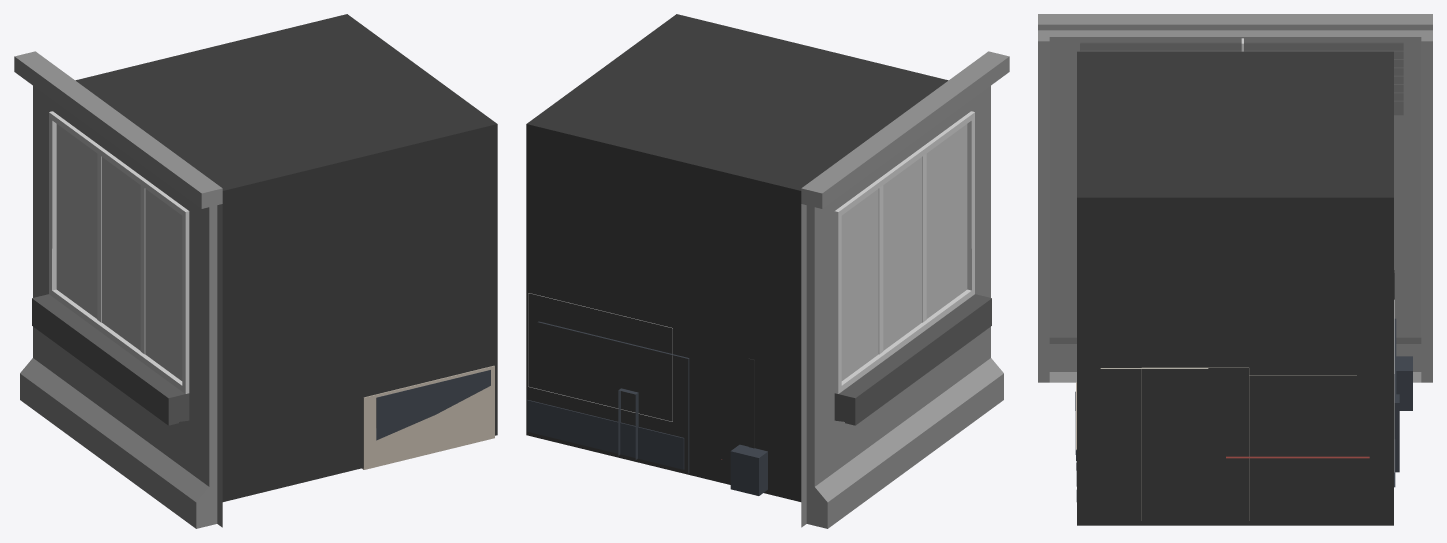
Rendered from Wall_10_Fake_Interior.FBX.
3 views of the same model, side by side, from view 1: azimuth 30°, elevation 25°; view 2: azimuth 150°, elevation 25°; view 3: azimuth 270°, elevation 25° (orthographic). The views are drawn at different scales.
Parts seen in each view (by area): view 1: Wall_10_Fake_Interior_LOD0, Wall_10_Fake_Interior_A, Wall_10_Fake_Interior_B; view 2: Wall_10_Fake_Interior_LOD0, Wall_10_Fake_Interior_B, Wall_10_Fake_Interior_C; view 3: Wall_10_Fake_Interior_LOD0, Wall_10_Blind_01_LOD0, Wall_10_Blind_02_LOD0, Wall_10_Fake_Interior_C, Wall_10_Fake_Interior_B.
Boxes of the visible parts, left/top/right/bottom form: Wall_10_Fake_Interior_LOD0: left=14, top=14, right=497, bottom=528; Wall_10_Fake_Interior_A: left=362, top=365, right=494, bottom=469; Wall_10_Fake_Interior_B: left=376, top=370, right=490, bottom=440; Wall_10_Fake_Interior_LOD0: left=526, top=14, right=1009, bottom=528; Wall_10_Fake_Interior_B: left=527, top=400, right=684, bottom=469; Wall_10_Fake_Interior_C: left=538, top=321, right=767, bottom=495; Wall_10_Fake_Interior_LOD0: left=1038, top=14, right=1432, bottom=525; Wall_10_Blind_01_LOD0: left=1081, top=42, right=1403, bottom=115; Wall_10_Blind_02_LOD0: left=1080, top=38, right=1243, bottom=51; Wall_10_Fake_Interior_C: left=1100, top=270, right=1412, bottom=458; Wall_10_Fake_Interior_B: left=1075, top=367, right=1395, bottom=520.
Size of what is drawn, in the model's own units: 180 by 180 by 180.
